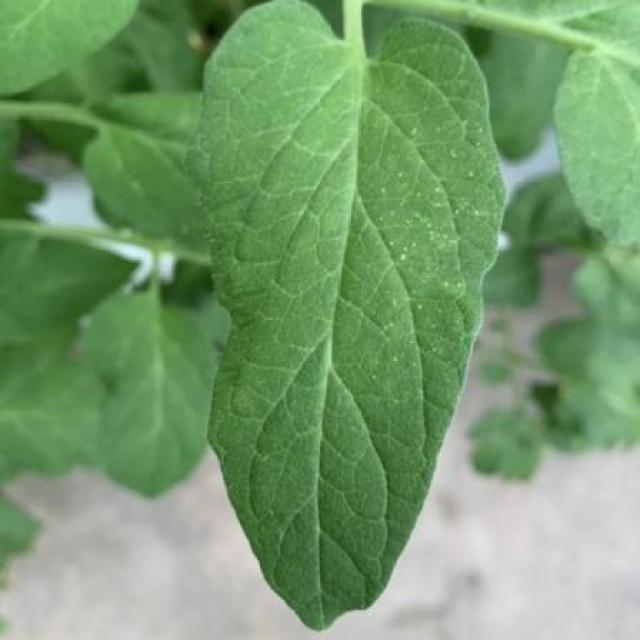Spider Mites: (208, 0, 508, 630)
